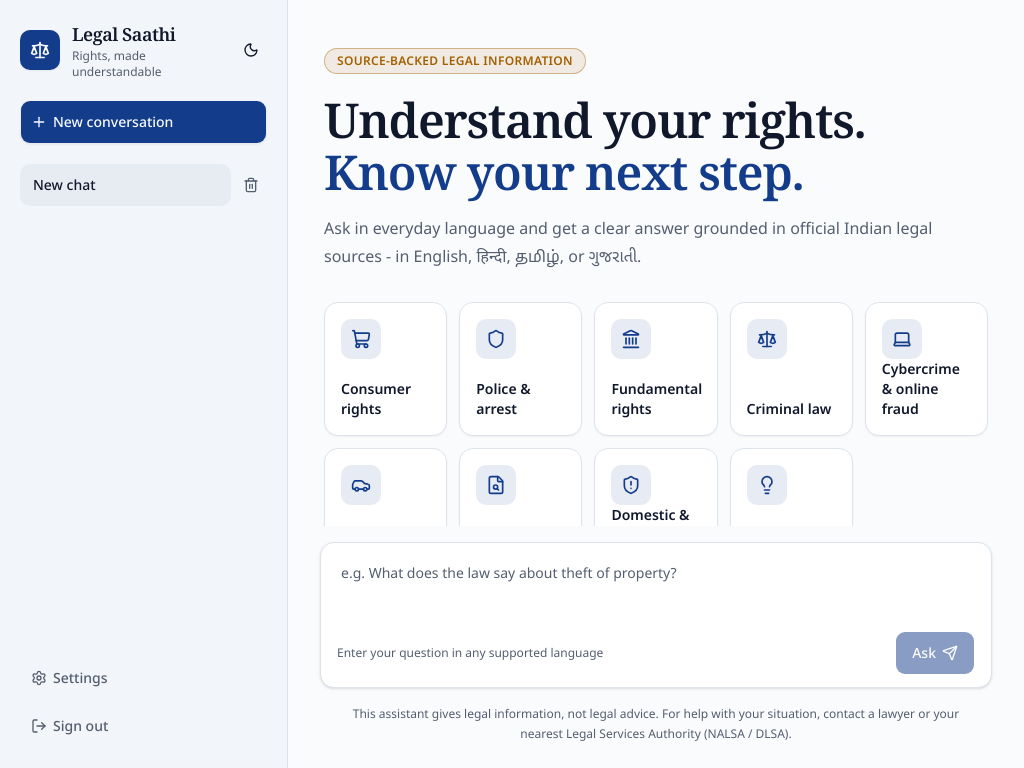
Scenario: Shell › leads a high-stakes answer with emergency contacts before the legal content
The image size is (1024, 768).
Type "I was just arrested, what are my rights?" into the text box named "your legal question" at (656, 587), box [333,555,979,619]
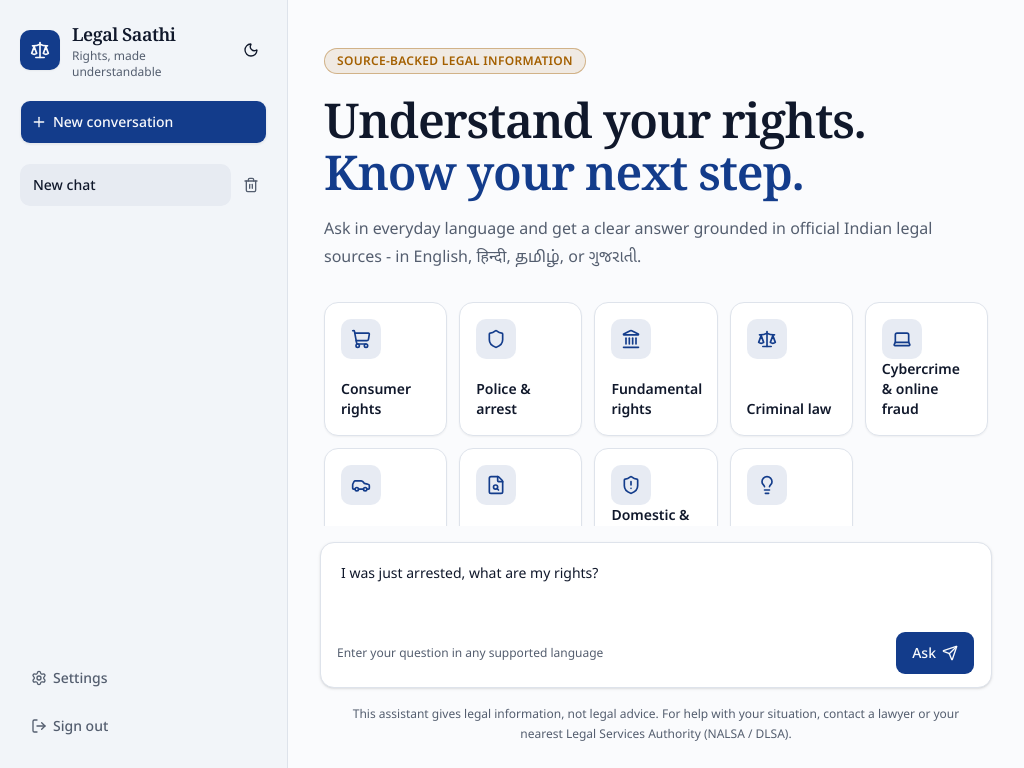
Click the button "Ask" at (935, 653), box [895,631,975,675]
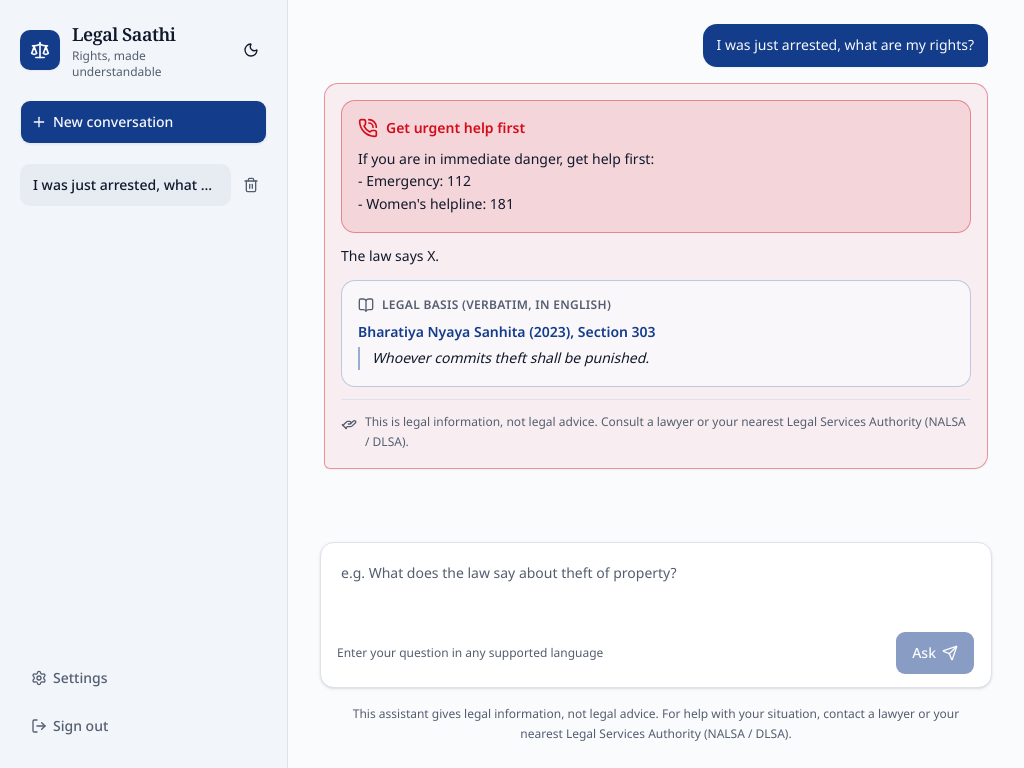
Expected: the text "112" is shown, [358,148,654,213]
